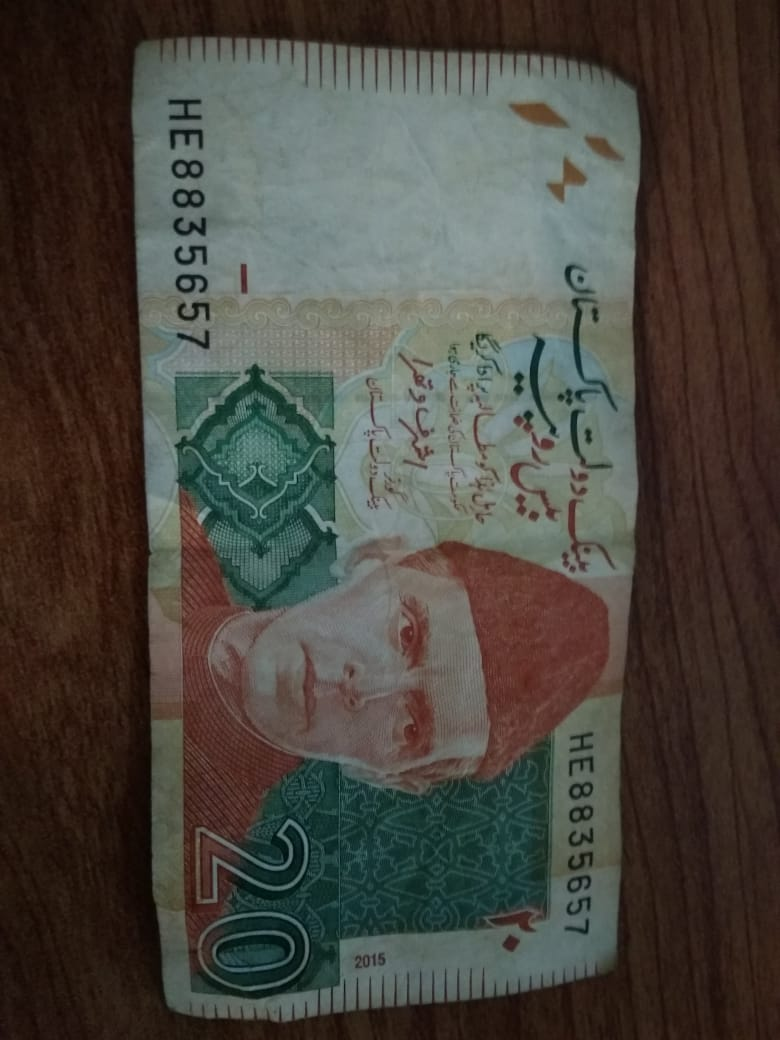20 rupee: (113, 38, 684, 1025)
